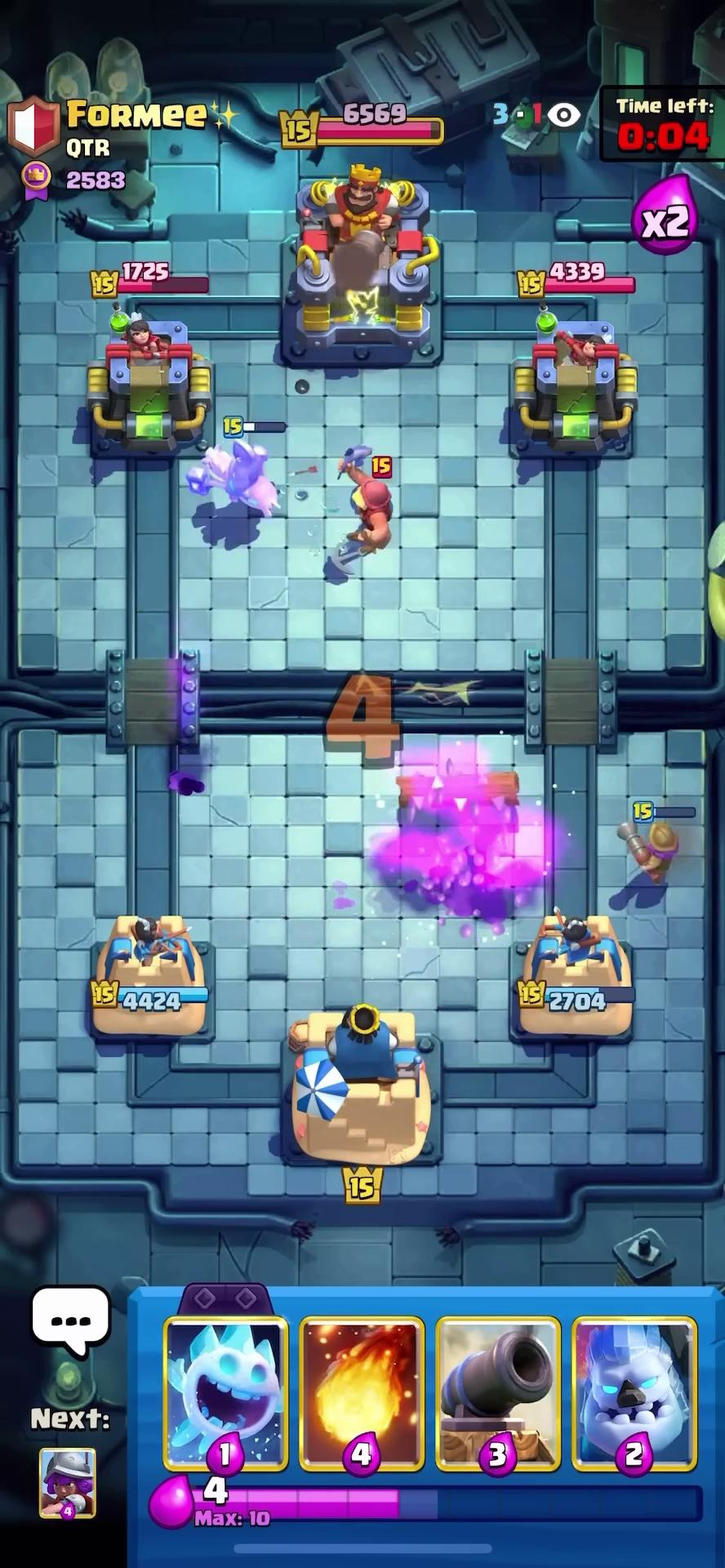hog_rider: (176, 414, 296, 533)
log: (386, 762, 533, 813)
musketeer: (623, 788, 700, 882)
